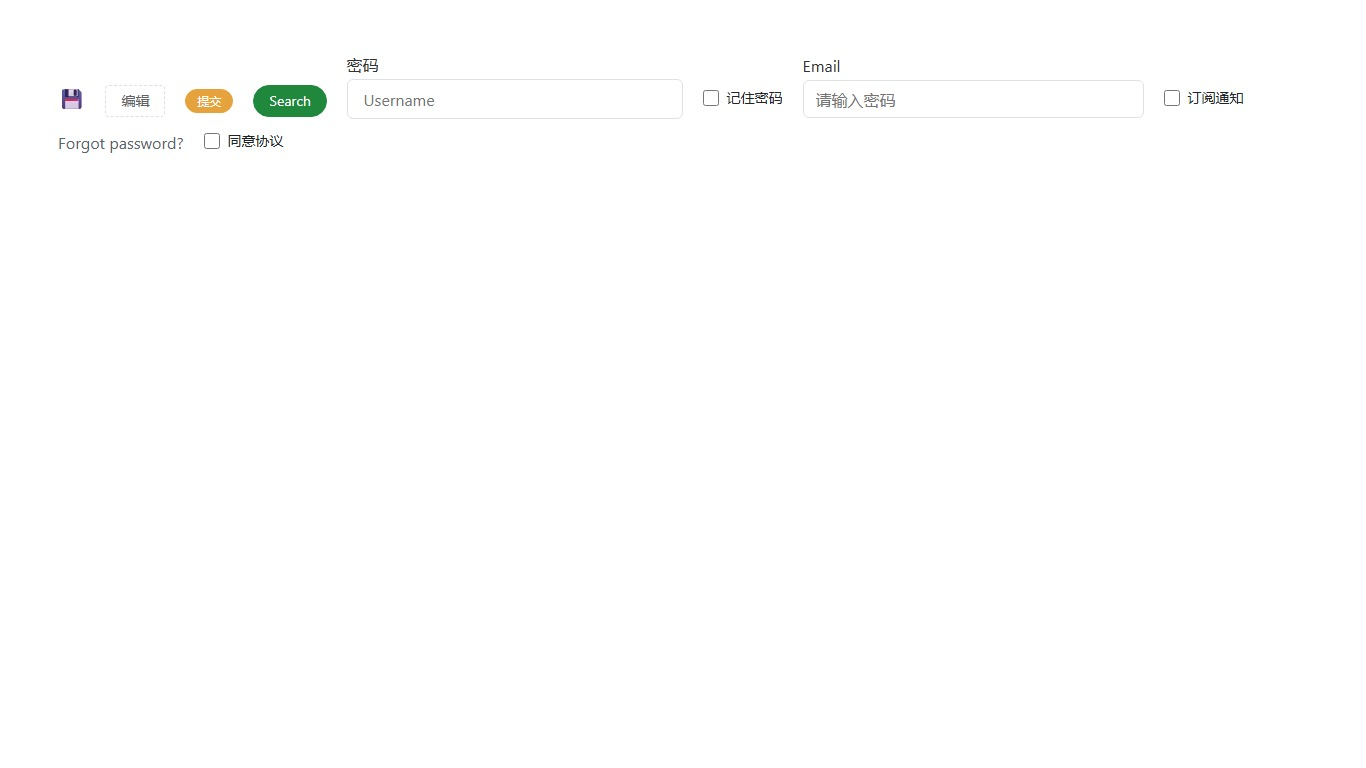button: (253, 84, 327, 116), (105, 84, 165, 116), (185, 88, 233, 112)
checkbox: (204, 133, 220, 149), (703, 90, 719, 105), (1164, 90, 1180, 105)
icon: (727, 88, 783, 107), (1188, 88, 1244, 107), (228, 131, 284, 150), (58, 87, 85, 108)
input: (347, 79, 683, 119), (803, 80, 1144, 118)
link: (58, 132, 184, 153)
radio: (703, 88, 783, 107), (1164, 88, 1244, 107), (204, 131, 284, 150)
